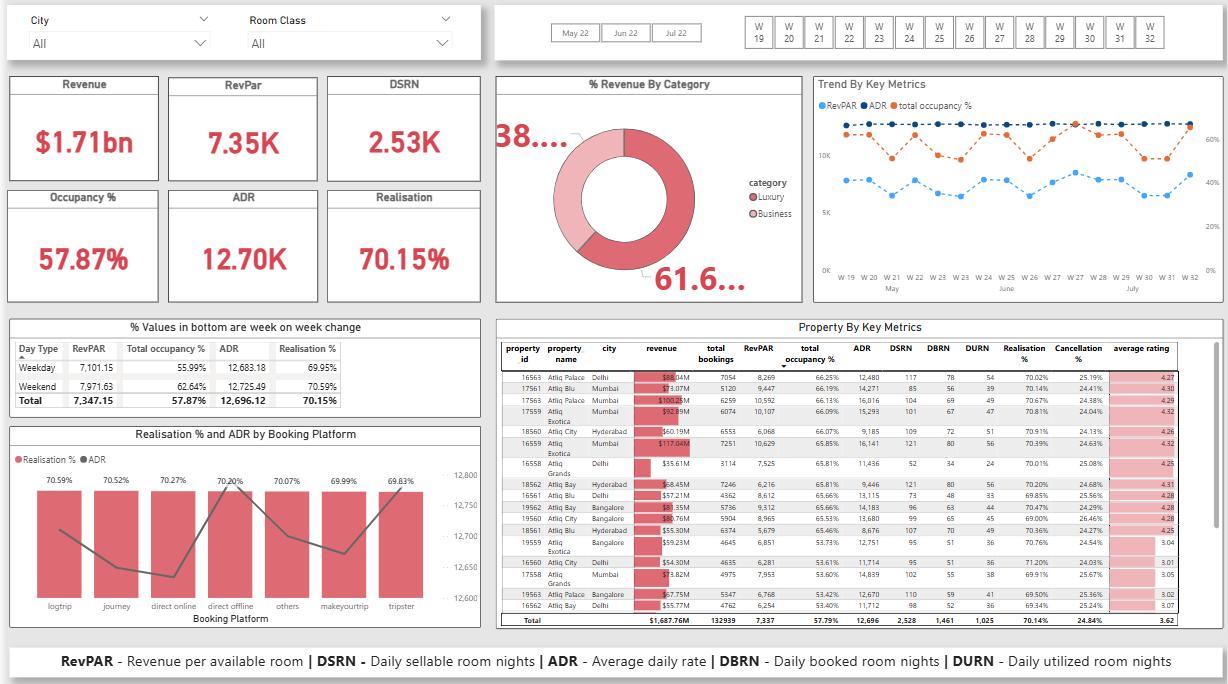

This screenshot's page, from the dashboard's own definition file:
{"tool":"powerbi","page":{"name":"Page 1","canvas":[1800,1100],"ordinal":0},"visuals":[{"type":"shape","box":[718.3,66.7,1073.3,81.7],"z":5000},{"type":"shape","box":[0,66.4,698.6,81.1],"z":6000},{"type":"tableEx","title":"Property By Key Metrics","fields":{"Values":["dim_hotel.property_id","dim_hotel.property_name","dim_hotel.city","key_measures.revenue","key_measures.total bookings","key_measures.RevPAR","key_measures.total occupancy %","key_measures.ADR","key_measures.DSRN","key_measures.DBRN","key_measures.DURN","key_measures.Realisation %"]},"box":[720,528.6,1072.9,457.1],"z":7000},{"type":"slicer","fields":{"Values":["dim_hotel.city"]},"box":[21.8,76.4,287.3,54.5],"z":8000},{"type":"slicer","fields":{"Values":["dim_room.room_class"]},"box":[345.5,76.4,321.8,54.5],"z":9000},{"type":"slicer","fields":{"Values":["dim_date.mmm yy"]},"box":[776.7,86.7,271.7,41.7],"z":10000},{"type":"slicer","fields":{"Values":["dim_date.week no"]},"box":[1061.8,76.4,669.1,61.8],"z":11000},{"type":"donutChart","title":"% Revenue By Category","fields":{"Category":["dim_hotel.category"],"Y":["key_measures.revenue"]},"box":[720,171.7,451.7,333.3],"z":12000},{"type":"lineChart","title":"Trend By Key Metrics","fields":{"Category":["dim_date.mmm yy.Variation.Date Hierarchy.Month","dim_date.week no"],"Y":["key_measures.RevPAR","key_measures.ADR"],"Y2":["key_measures.total occupancy %"]},"box":[1188.3,171.7,605,333.3],"z":13000},{"type":"card","title":"Occupancy %","fields":{"Values":["key_measures.total occupancy %"]},"box":[0,339.1,223,165.9],"z":17000},{"type":"card","title":"ADR","fields":{"Values":["key_measures.ADR"]},"box":[237.8,339.1,221.2,165.9],"z":18000},{"type":"card","title":"Realisation","fields":{"Values":["key_measures.Realisation %"]},"box":[471.9,339.1,226.7,165.9],"z":19000},{"type":"lineStackedColumnComboChart","fields":{"Category":["fact_booking.booking_platform"],"Y":["key_measures.Realisation %"],"Y2":["key_measures.ADR"]},"box":[3.3,688.3,695,296.7],"z":23000},{"type":"tableEx","title":"% Values in bottom are week on week change","fields":{"Values":["dim_date.day_type","key_measures.RevPAR","key_measures.total occupancy %","key_measures.ADR","key_measures.Realisation %"]},"box":[3.7,529,694.9,145.6],"z":24000},{"type":"card","title":"Revenue","fields":{"Values":["key_measures.revenue"]},"box":[3.6,171.8,220,154.5],"z":25000},{"type":"card","title":"RevPar","fields":{"Values":["key_measures.RevPAR"]},"box":[238.2,173.6,220,152.7],"z":26000},{"type":"card","title":"DSRN","fields":{"Values":["key_measures.DSRN"]},"box":[471.9,171.4,226.7,154.8],"z":27000},{"type":"textbox","box":[3.6,1014.5,1789.1,43.6],"z":28000}]}

Visuals, with their boxes on the page's 1800x1100 design canvas (x1, y1, x2, y2). These are canvas units, not pixel positions in the 1228x684 screenshot, which may show the page scaled, cropped or inside an application window:
shape: Rect(718, 67, 1792, 148)
shape: Rect(0, 66, 699, 148)
"Property By Key Metrics" tableEx: Rect(720, 529, 1793, 986)
slicer - dim_hotel.city: Rect(22, 76, 309, 131)
slicer - dim_room.room_class: Rect(346, 76, 667, 131)
slicer - dim_date.mmm yy: Rect(777, 87, 1048, 128)
slicer - dim_date.week no: Rect(1062, 76, 1731, 138)
"% Revenue By Category" donutChart: Rect(720, 172, 1172, 505)
"Trend By Key Metrics" lineChart: Rect(1188, 172, 1793, 505)
"Occupancy %" card: Rect(0, 339, 223, 505)
"ADR" card: Rect(238, 339, 459, 505)
"Realisation" card: Rect(472, 339, 699, 505)
lineStackedColumnComboChart - fact_booking.booking_platform x key_measures.Realisation %: Rect(3, 688, 698, 985)
"% Values in bottom are week on week change" tableEx: Rect(4, 529, 699, 675)
"Revenue" card: Rect(4, 172, 224, 326)
"RevPar" card: Rect(238, 174, 458, 326)
"DSRN" card: Rect(472, 171, 699, 326)
textbox: Rect(4, 1014, 1793, 1058)
